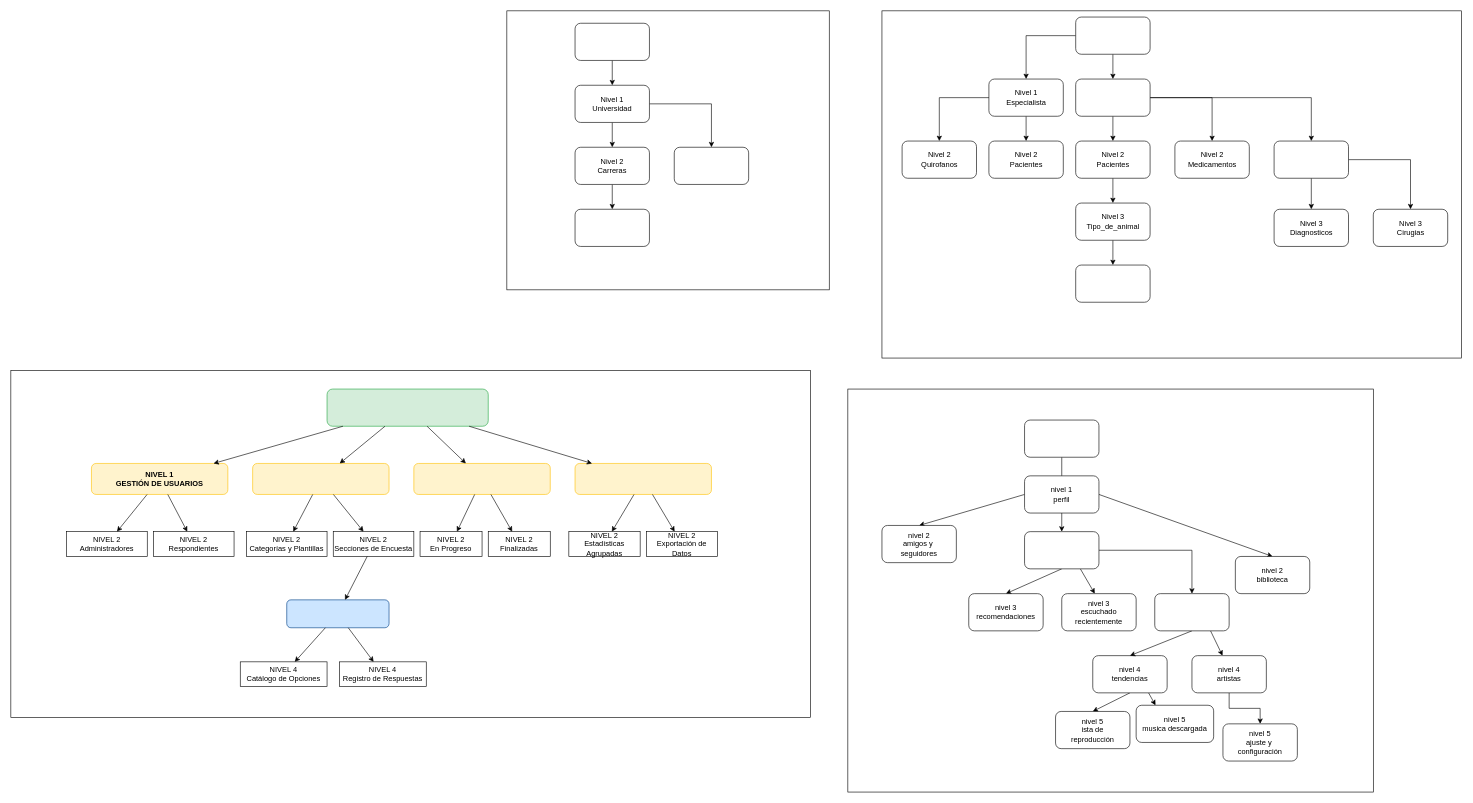
This 1473x803 diagram has some shape labels left out. The centre of each missing label's shape, as x and y in pixels:
"IVEL 1 DISEÑO DE ENCUESTAS" goes at point (320, 478).
"Nivel 0 Clinicas" goes at point (1112, 35).
"nivel 0 raiz musica" goes at point (1061, 438).
"NIVEL 0 SISTEMA DE ENCUESTAS" goes at point (407, 407).
"Nivel 0 Universidad_Carrera" goes at point (611, 41).
"Nivel 1 Medicos" goes at point (1112, 97).
"NIVEL 1 MÓDULO DE RESPUESTAS" goes at point (481, 478).
"NIVEL 1 REPORTES Y ANALÍTICA" goes at point (642, 478).
"Nivel 2 Consultorios" goes at point (1310, 159).
"nivel 2 inicio" goes at point (1061, 550).
"Nivel 2 Ubicacion" goes at point (711, 165).
"nivel 3 explorar" goes at point (1191, 612).
"Nivel 3 Ofertas_Academicas" goes at point (611, 227).
"NIVEL 3 Preguntas Opción Múltiple" goes at point (337, 613).
"Nivel 4 Razas" goes at point (1112, 283).
